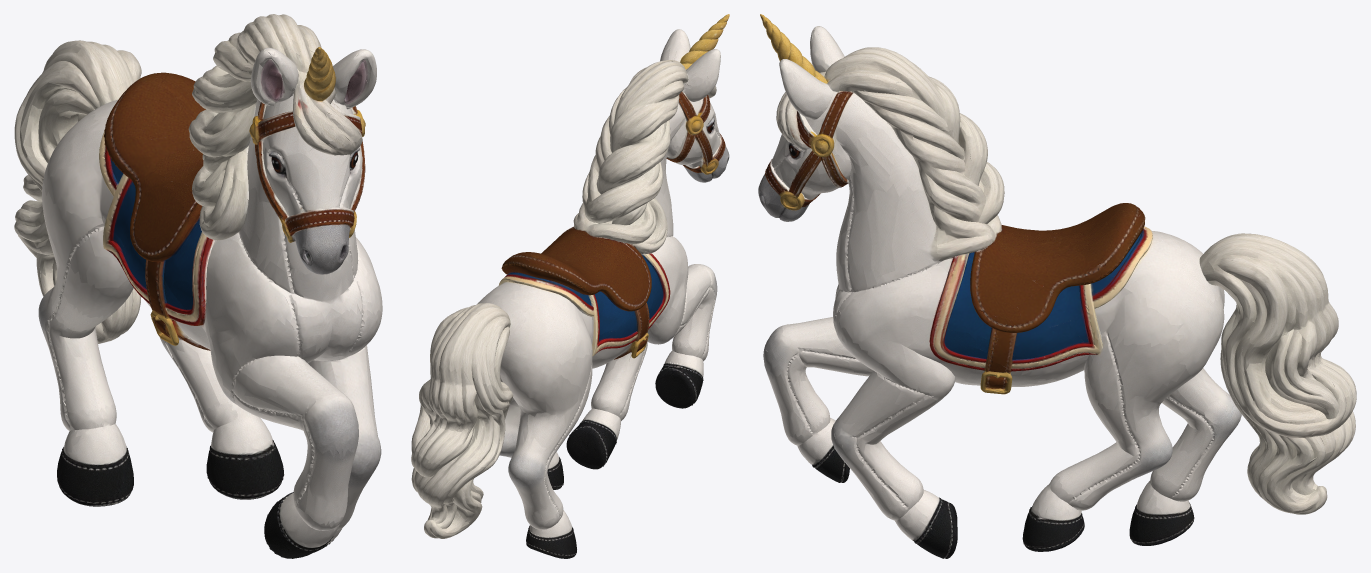
The model's file is unicorn.glb.
3 renders of one model, left to right at view 1: azimuth 30°, elevation 25°; view 2: azimuth 150°, elevation 25°; view 3: azimuth 270°, elevation 25°, orthographic. The views are drawn at different scales.
Bounding box in the file's own units: 0.5281 × 1.82 × 1.9.
Materials: 1 (1 with a texture image).
